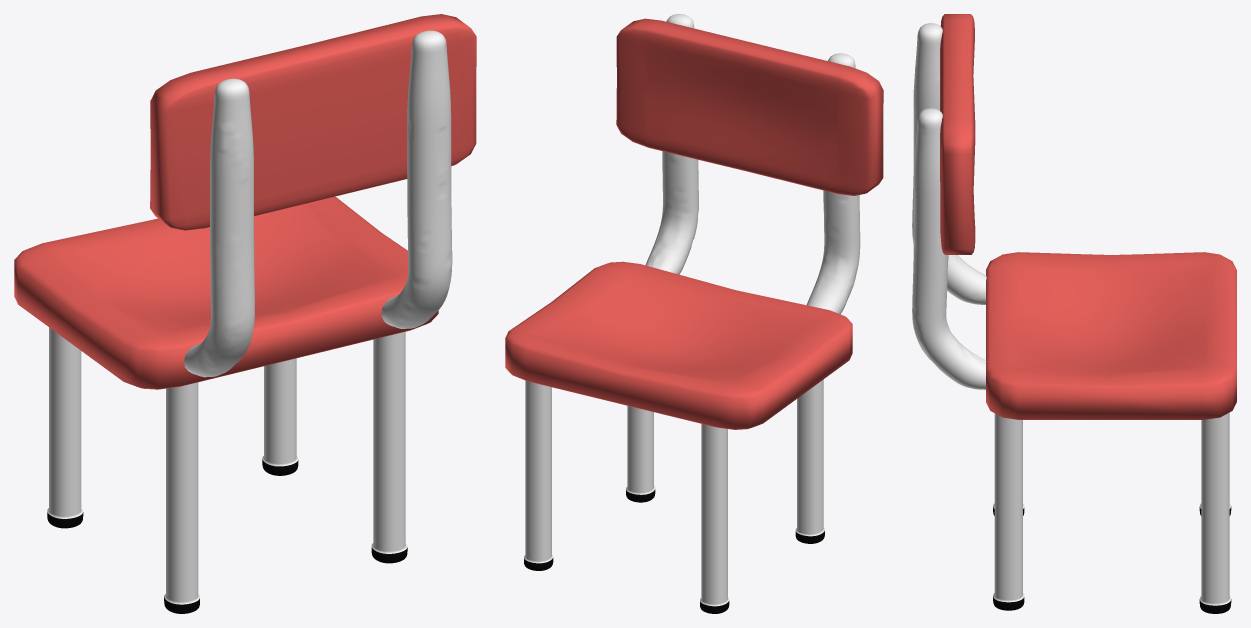
File: red_chair.glb
3 renders of one model, left to right at view 1: azimuth 30°, elevation 25°; view 2: azimuth 150°, elevation 25°; view 3: azimuth 270°, elevation 25°, orthographic. The views are drawn at different scales.
Parts seen in each view (by area): view 1: Cube_Material.001_0, Cube.001_Material.001_0, Plane_metal_0, Plane.001_metal_0, Plane.003_metal_0, Plane.002_metal_0, Plane.004_metal_0, Plane.005_metal_0; view 2: Cube_Material.001_0, Cube.001_Material.001_0, Plane.004_metal_0, Plane.005_metal_0, Plane.001_metal_0, Plane_metal_0, Plane.003_metal_0, Plane.002_metal_0; view 3: Cube_Material.001_0, Plane_metal_0, Cube.001_Material.001_0, Plane.005_metal_0, Plane.002_metal_0, Plane.001_metal_0.
Part boxes in pixels (<box>): Cube_Material.001_0: <box>14,196,438,389</box>; Cube.001_Material.001_0: <box>150,14,476,230</box>; Plane_metal_0: <box>381,30,452,328</box>; Plane.001_metal_0: <box>184,78,254,377</box>; Plane.003_metal_0: <box>164,382,199,604</box>; Plane.002_metal_0: <box>371,331,407,553</box>; Plane.004_metal_0: <box>47,327,82,518</box>; Plane.005_metal_0: <box>262,358,298,466</box>; Cube_Material.001_0: <box>505,261,852,429</box>; Cube.001_Material.001_0: <box>616,18,883,195</box>; Plane.004_metal_0: <box>700,424,729,606</box>; Plane.005_metal_0: <box>524,380,553,563</box>; Plane.001_metal_0: <box>806,53,860,314</box>; Plane_metal_0: <box>645,14,698,274</box>; Plane.003_metal_0: <box>795,379,824,536</box>; Plane.002_metal_0: <box>626,405,655,494</box>; Cube_Material.001_0: <box>986,252,1236,419</box>; Plane_metal_0: <box>912,108,986,389</box>; Cube.001_Material.001_0: <box>940,14,975,254</box>; Plane.005_metal_0: <box>1200,412,1230,605</box>; Plane.002_metal_0: <box>993,413,1024,602</box>; Plane.001_metal_0: <box>912,23,986,304</box>.
Size of the model in its own units: 1.8 by 3.1 by 1.85.
